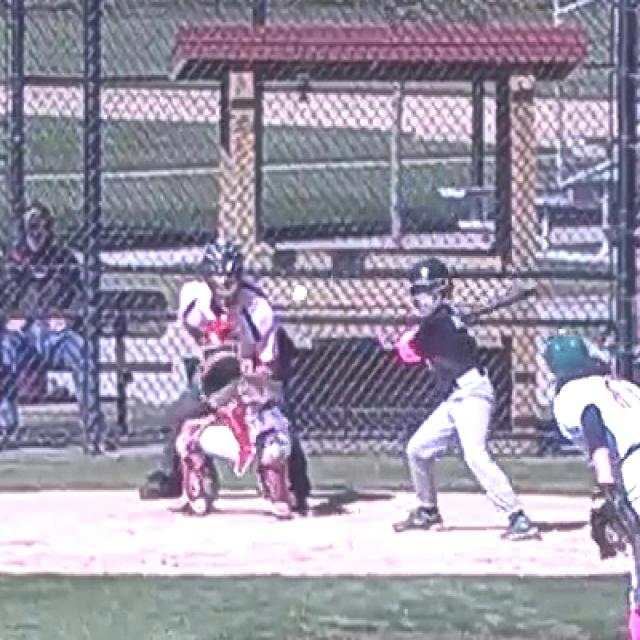baseball: (295, 285, 307, 300)
